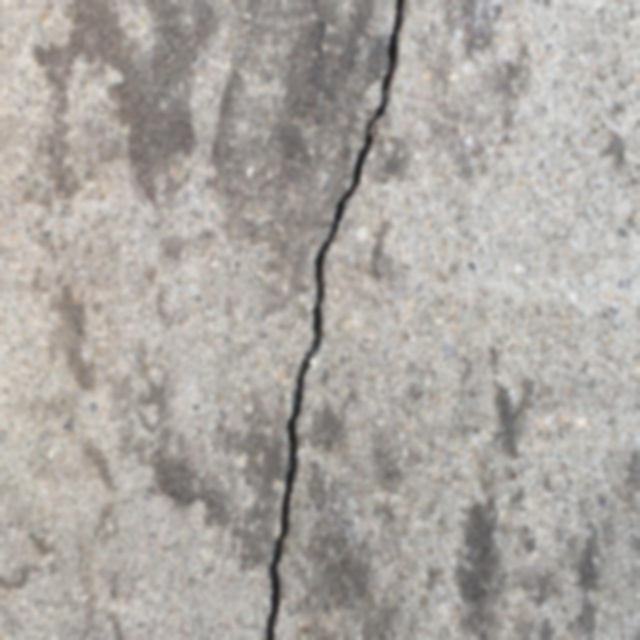SurfaceCrack: (228, 0, 446, 640)
